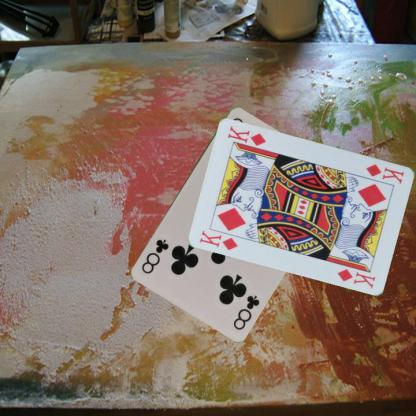8c: (230, 292, 261, 331)
Kd: (364, 161, 406, 185), (197, 228, 239, 251)
